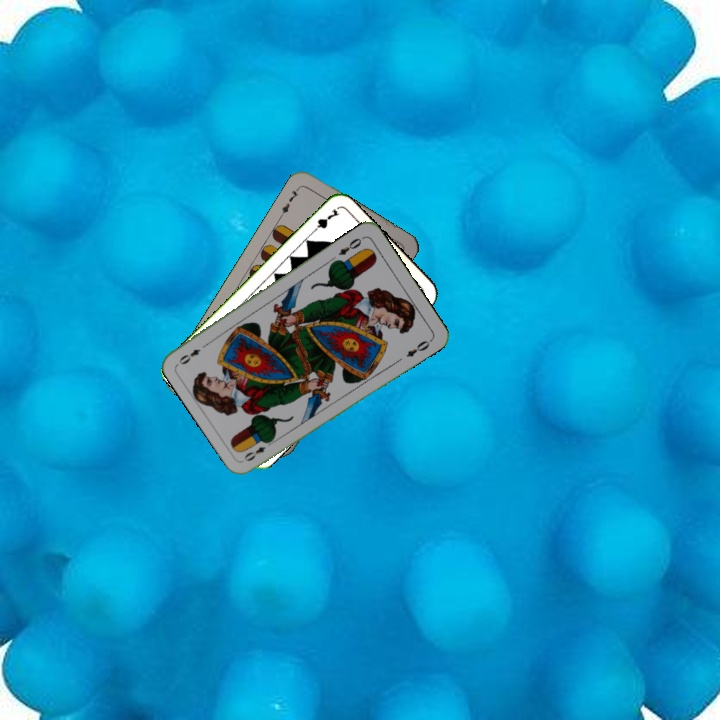E7: (276, 183, 303, 219)
EO: (240, 436, 276, 464), (334, 233, 366, 258)
G7: (307, 204, 342, 237)
